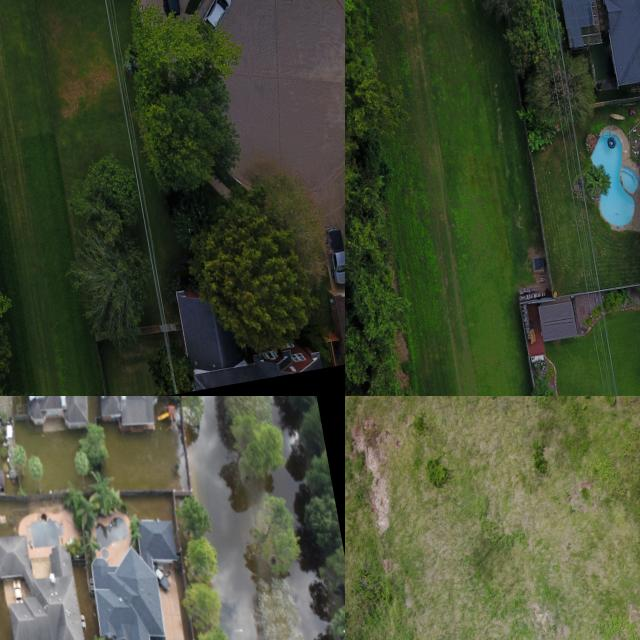fire: (189, 396, 263, 640), (284, 561, 327, 640)
